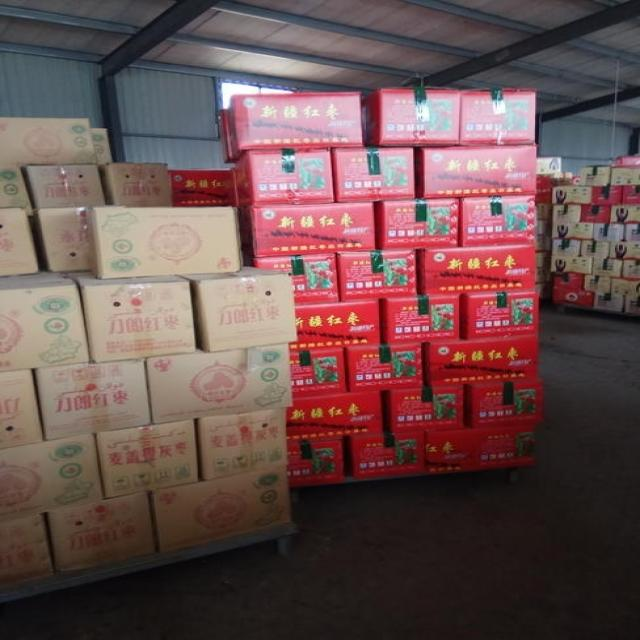box: (148, 466, 291, 552), (66, 271, 197, 363), (89, 203, 245, 280), (146, 344, 292, 424), (181, 265, 299, 352), (31, 357, 152, 440), (227, 92, 365, 161), (0, 433, 106, 522), (47, 492, 157, 576), (0, 272, 90, 371), (96, 419, 199, 498), (239, 202, 376, 257), (194, 408, 289, 482), (414, 143, 536, 198), (417, 243, 538, 295), (362, 86, 459, 148), (425, 422, 538, 475), (233, 148, 334, 207), (422, 336, 539, 386), (244, 251, 341, 305), (286, 392, 384, 444), (291, 299, 380, 353), (0, 116, 98, 164), (332, 147, 416, 203), (372, 197, 460, 250), (459, 88, 538, 145), (379, 292, 460, 346), (0, 514, 56, 590), (337, 248, 417, 301), (345, 340, 424, 393), (18, 162, 106, 209), (386, 381, 466, 432), (346, 428, 425, 479), (459, 291, 539, 341), (459, 195, 536, 246), (29, 208, 90, 272), (464, 379, 544, 427), (0, 368, 45, 449), (100, 162, 173, 206), (290, 438, 348, 488), (0, 208, 41, 278), (168, 169, 239, 207), (291, 349, 346, 398), (0, 164, 37, 217), (551, 272, 594, 308), (218, 109, 236, 162), (551, 253, 591, 274), (92, 128, 114, 165), (552, 221, 593, 240), (551, 185, 591, 204), (607, 204, 640, 224), (580, 204, 612, 224), (582, 165, 612, 186), (582, 274, 612, 295), (591, 185, 624, 204), (591, 259, 623, 278), (594, 293, 626, 312), (610, 165, 640, 185), (580, 239, 610, 259), (551, 205, 584, 223), (593, 224, 626, 242), (552, 237, 581, 257), (611, 277, 639, 297), (538, 175, 557, 204), (610, 242, 639, 260), (536, 157, 563, 175), (539, 172, 572, 186), (538, 269, 551, 300), (622, 185, 640, 205), (622, 260, 640, 280), (623, 224, 640, 243), (624, 296, 639, 314), (538, 252, 552, 271), (536, 203, 551, 220), (614, 156, 639, 166), (536, 220, 552, 235), (538, 235, 552, 252), (570, 175, 582, 186)
